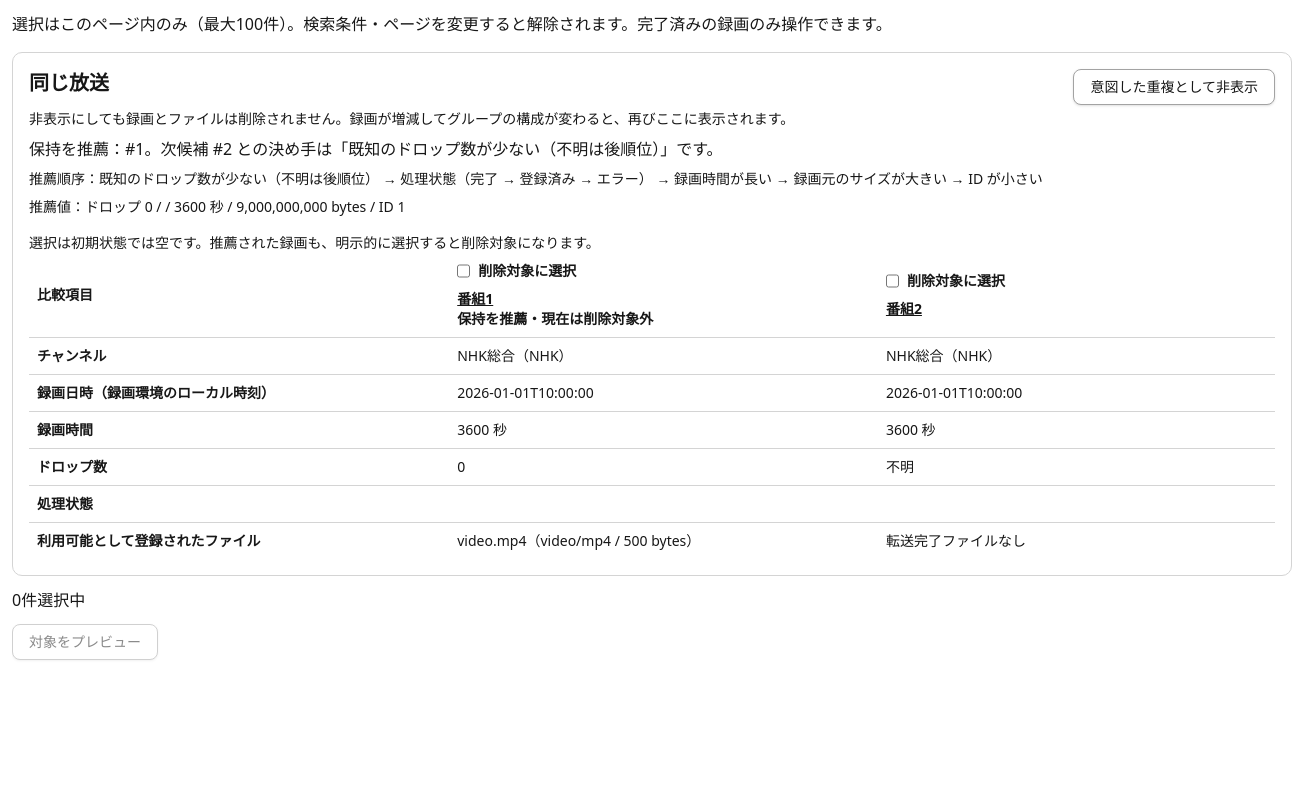
Scenario: DuplicateReviewPanel › shows a stale or failed update without refreshing and allows retrying
The image size is (1292, 812).
Click the button with aria-label "意図した重複として非表示（#1, #2）".
click(1174, 87)  # box [1073,69,1275,105]
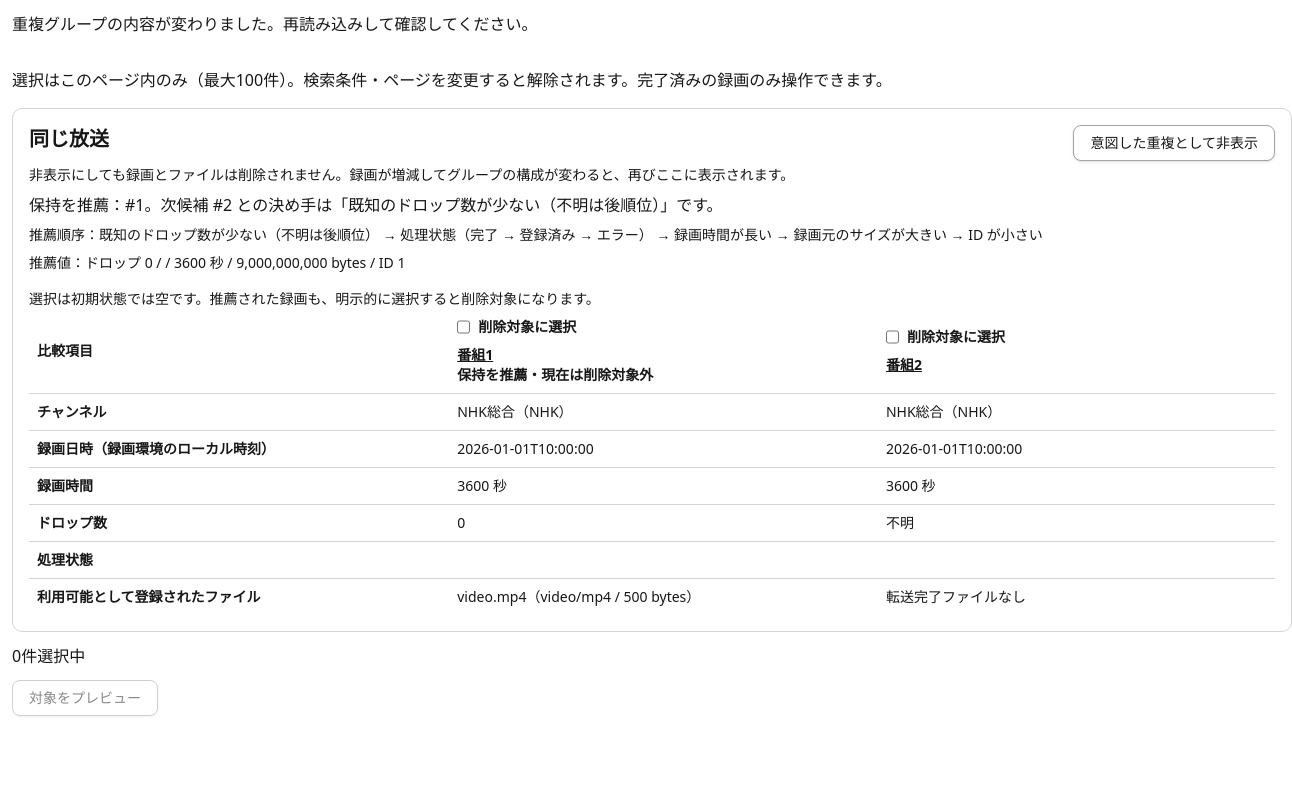
Expected: the message shows "内容が変わりました", [12,13,538,35]
Click the button with aria-label "意図した重複として非表示（#1, #2）".
click(1174, 143)  # box [1073,125,1275,161]
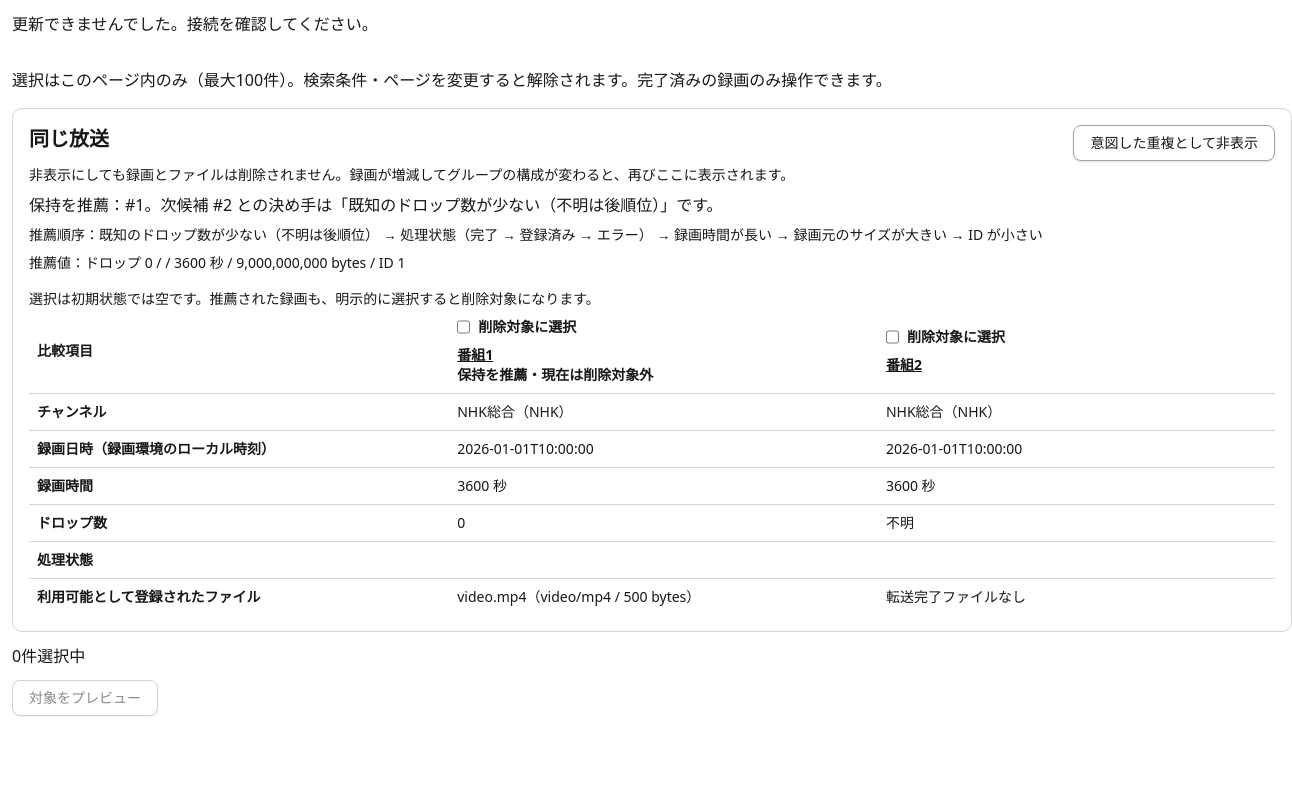
Expected: the message shows "更新できませんでした", [12,13,378,35]
